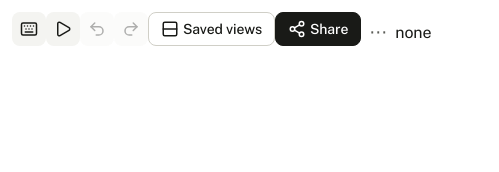
it: Saved views editor action › opens the app-level Saved views dialog slot
Click the button "Saved views" at (212, 29), box [148,12,275,46]
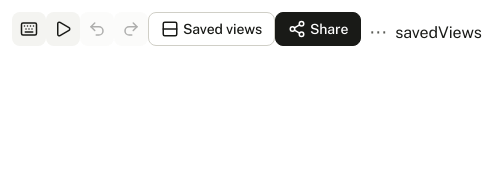
Now the text "savedViews" is shown, box [395,23,482,42]
